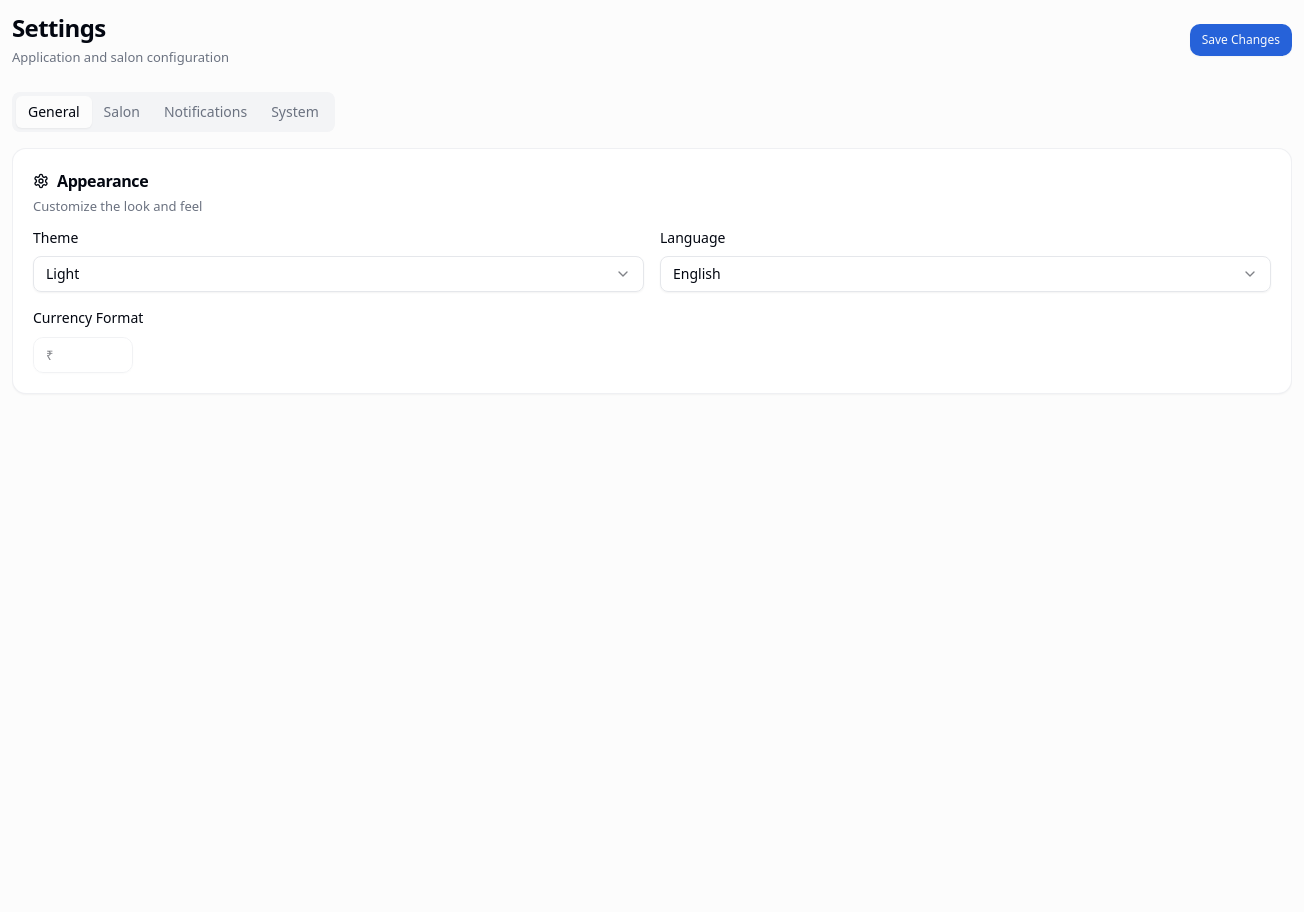
Test case: SettingsPage › switches to Salon tab on click
Click the tab "Salon": (122, 112) [92,96,152,128]
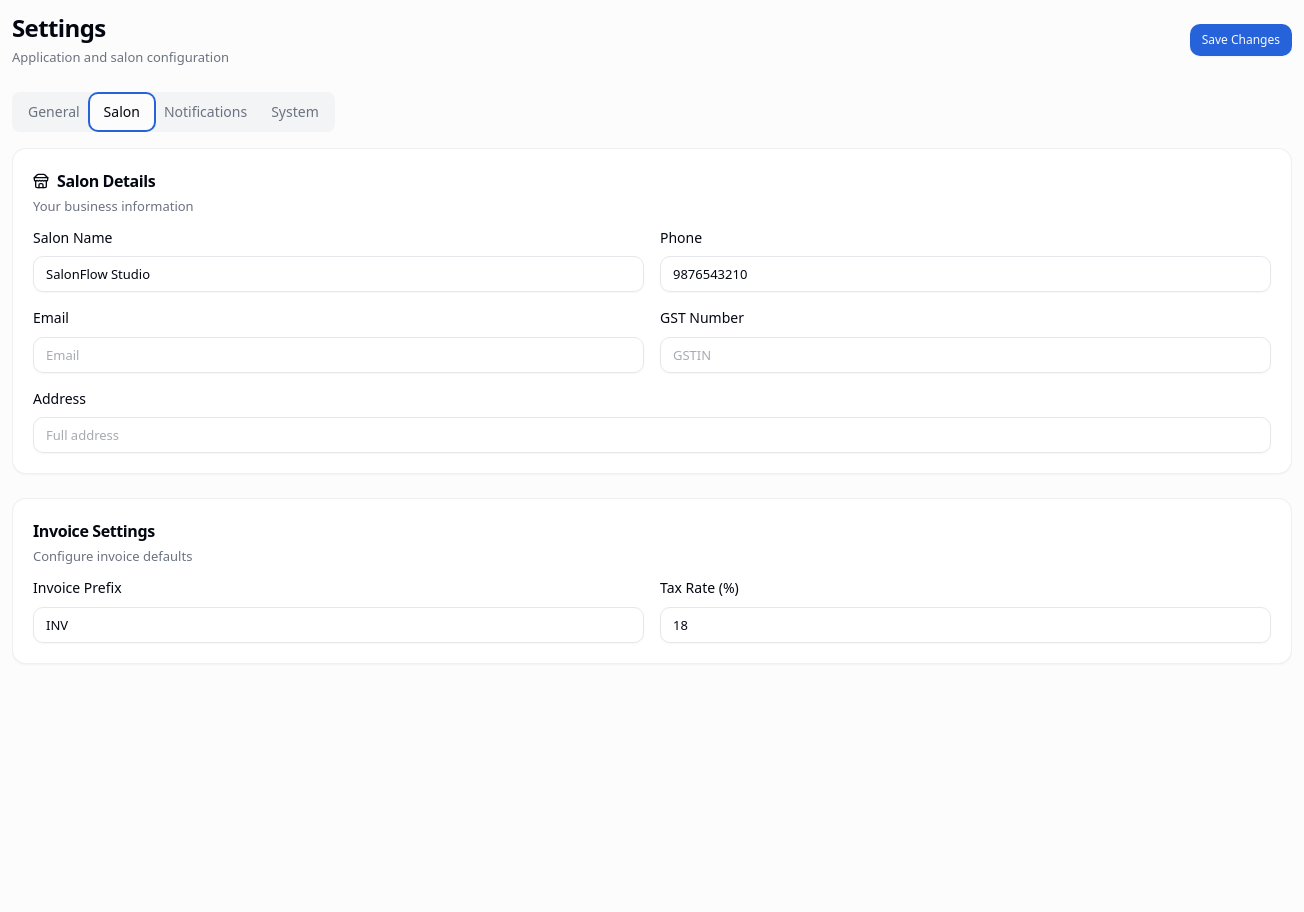
Check: the heading "Salon Details" is shown, box [33,170,155,192]
